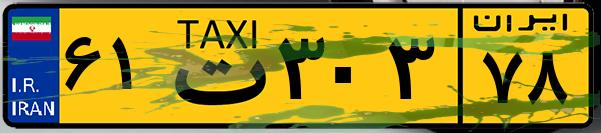0: (330, 28, 385, 110)
1: (110, 28, 158, 98)
3: (270, 28, 330, 110), (385, 28, 445, 110)
6: (57, 26, 110, 100)
7: (475, 38, 525, 113)
8: (525, 38, 570, 115)
ت: (158, 12, 270, 120)
